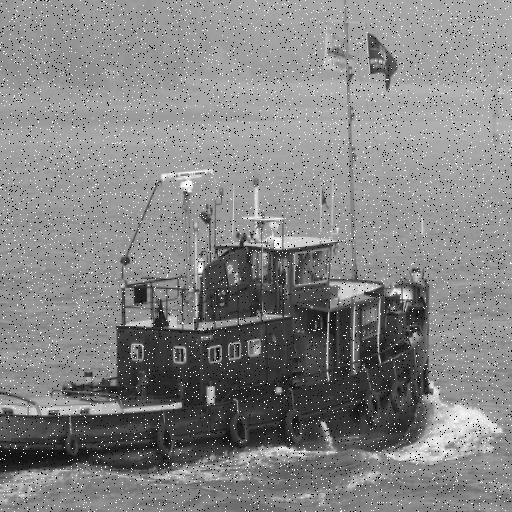tugboat: (1, 1, 441, 494)
